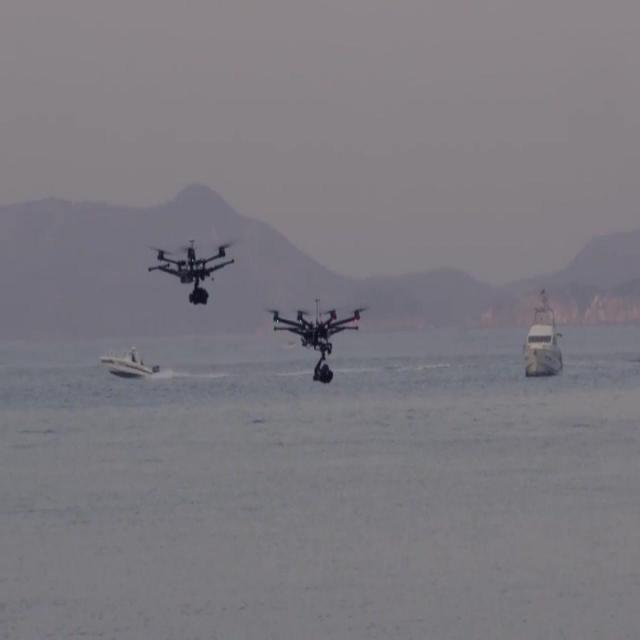UAV: (265, 298, 369, 384), (148, 239, 237, 306)
